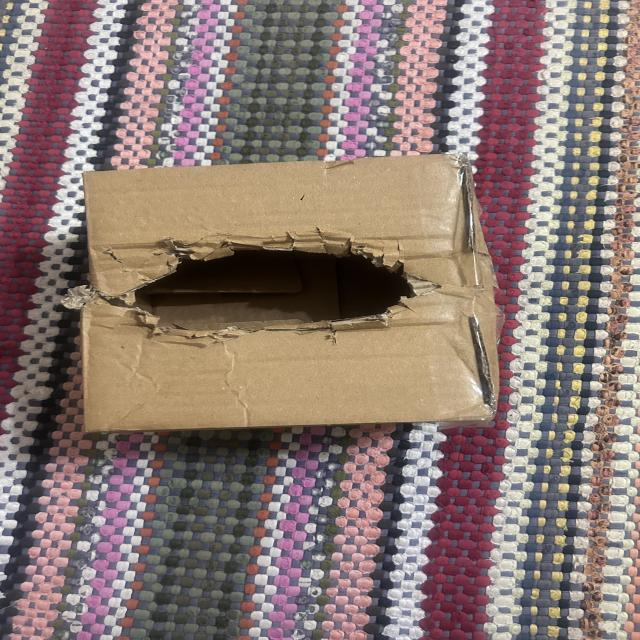damaged: (76, 155, 509, 439), (82, 230, 460, 353)
